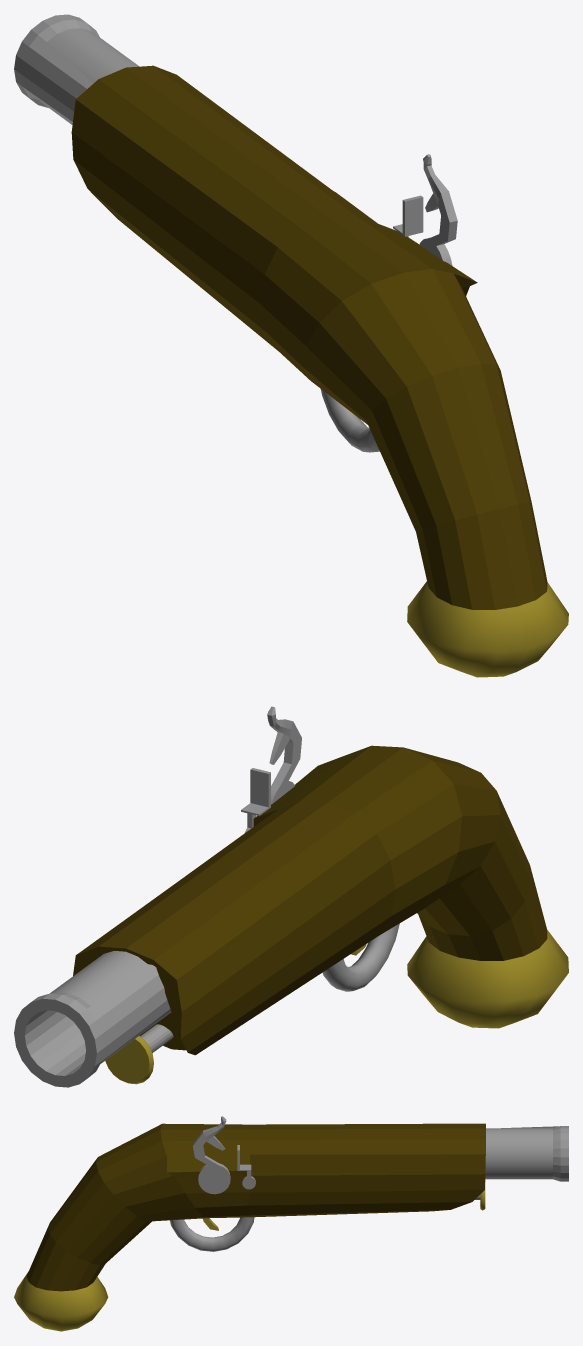
File: CombinedFlintlock.fbx
The picture shows the model from 3 angles, top to bottom: view 1: azimuth 30°, elevation 25°; view 2: azimuth 150°, elevation 25°; view 3: azimuth 270°, elevation 25°; orthographic projection. The views are drawn at different scales.
Parts seen in each view (by area): view 1: RamRod1; view 2: RamRod1; view 3: RamRod1.
Part boxes in pixels (bbox=[...]): RamRod1: bbox=[14, 14, 568, 677]; RamRod1: bbox=[14, 706, 568, 1087]; RamRod1: bbox=[14, 1116, 568, 1331].
Bounding box in the file's own units: 1.05 × 2.44 × 5.29.
